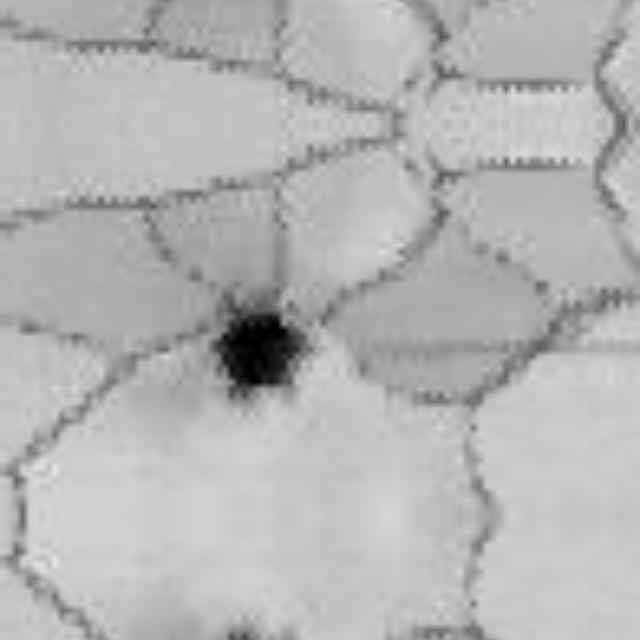good_void: (202, 289, 328, 409)
